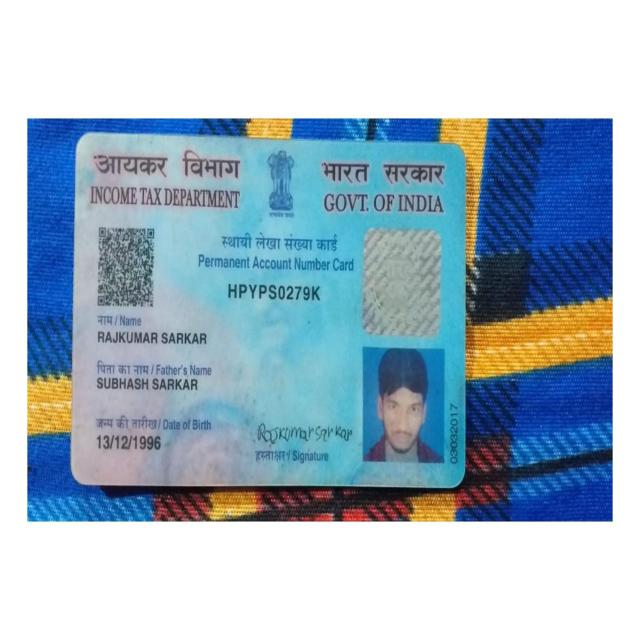pan_card: (87, 142, 460, 481)
